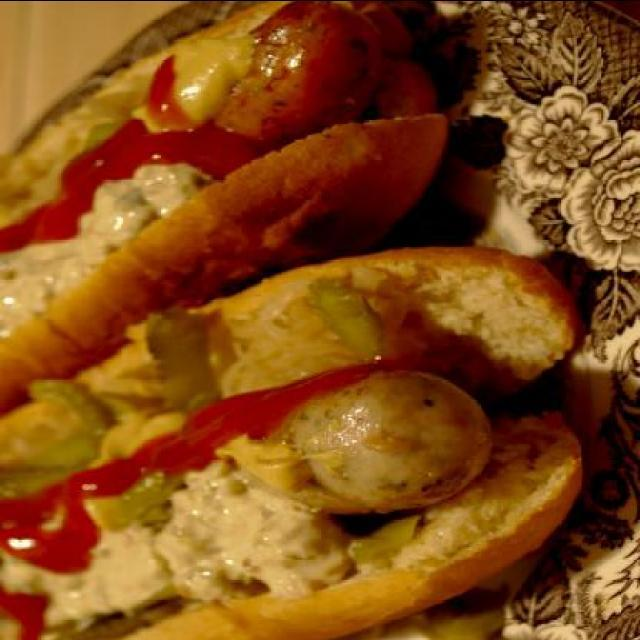Hot dog: (0, 246, 582, 640), (0, 2, 457, 406)
